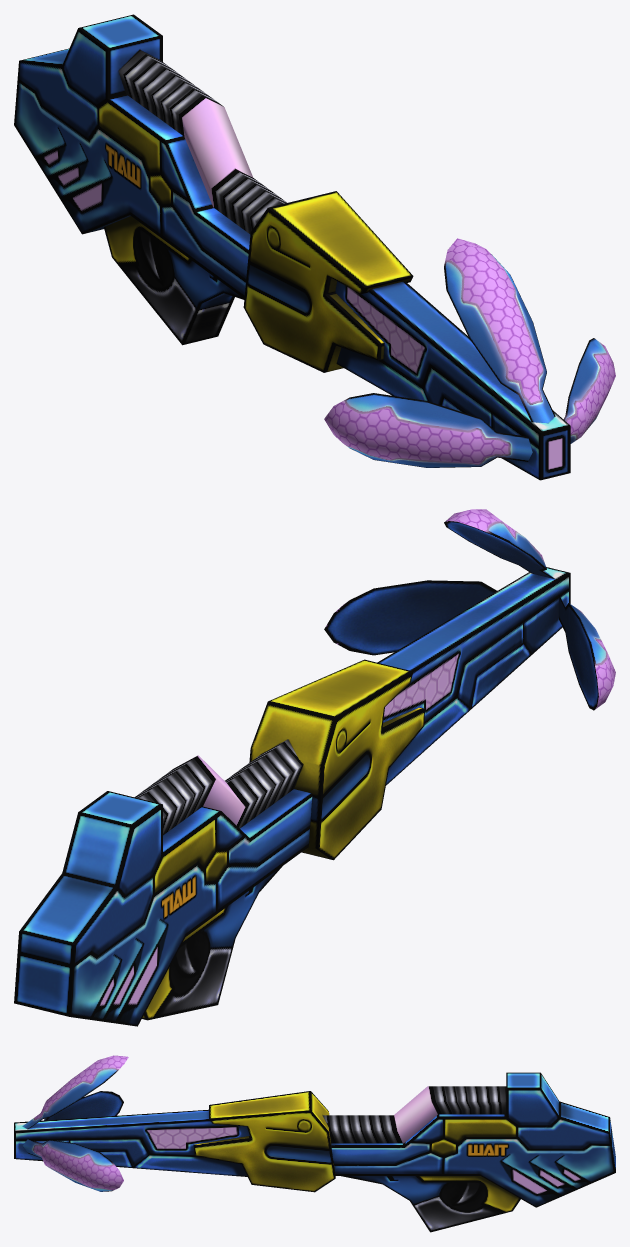
Rendered from weapon_sniper_08.FBX.
3 views of the same model, one above another, from view 1: azimuth 30°, elevation 25°; view 2: azimuth 150°, elevation 25°; view 3: azimuth 270°, elevation 25° (orthographic). The views are drawn at different scales.
Parts seen in each view (by area): view 1: weapon_sniper_08; view 2: weapon_sniper_08; view 3: weapon_sniper_08.
Boxes of the visible parts, <box> form: weapon_sniper_08: <box>14,14,615,480</box>; weapon_sniper_08: <box>14,509,615,1026</box>; weapon_sniper_08: <box>14,1055,615,1232</box>.
Size of the model in its own units: 92.43 by 93.89 by 299.
